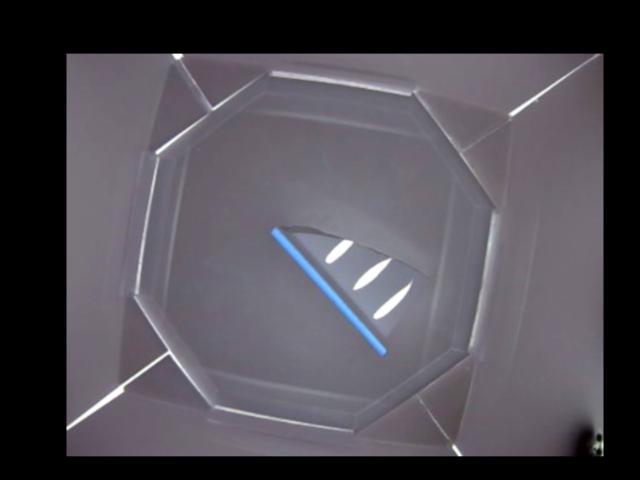China: (269, 224, 428, 356)
